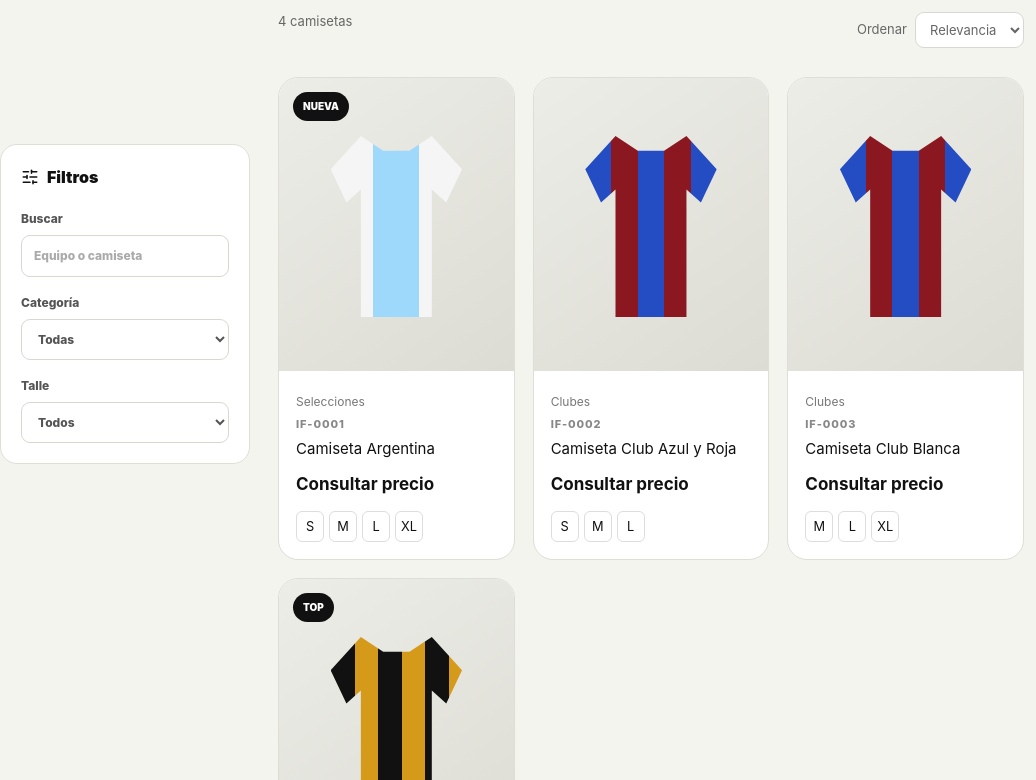
Test: Catalog › filters by product code
This screenshot has width=1036, height=780.
Type "IF-0003" into the field named "Buscar camisetas".
click(125, 256); type("IF-0003")  # box [21,235,229,277]
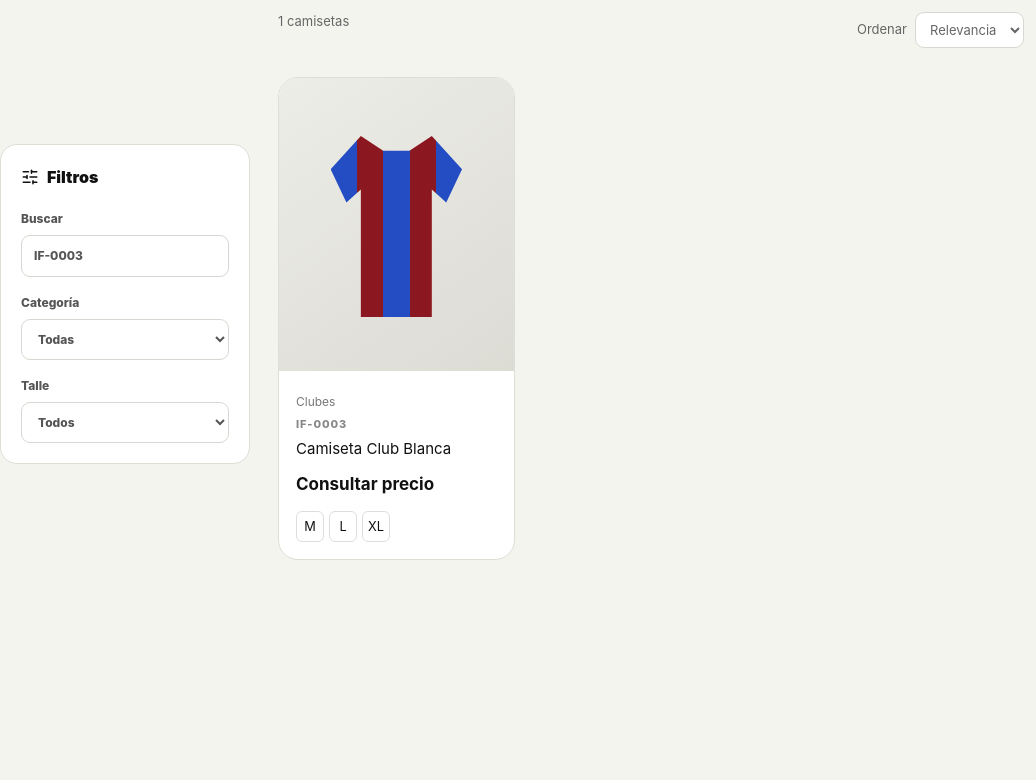
Check: the heading "Camiseta Club Blanca" is shown, box [296,439,451,458]
Check: the link "Camiseta Argentina" is gone
